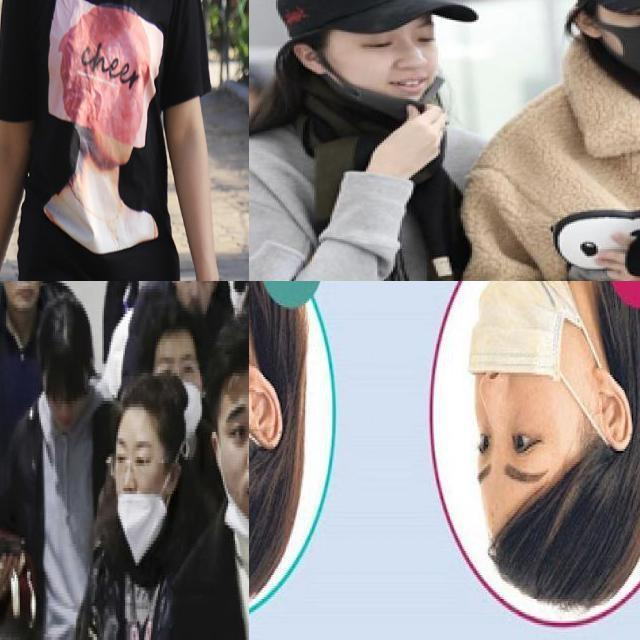hairnet: (471, 284, 625, 448), (311, 50, 451, 123), (111, 473, 168, 559), (218, 447, 251, 546)
